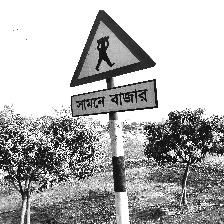Market-in-front: (69, 9, 159, 118)
